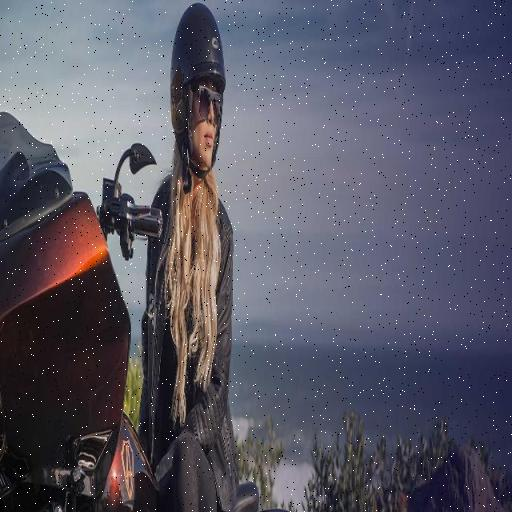Helmet: (169, 13, 234, 175)
